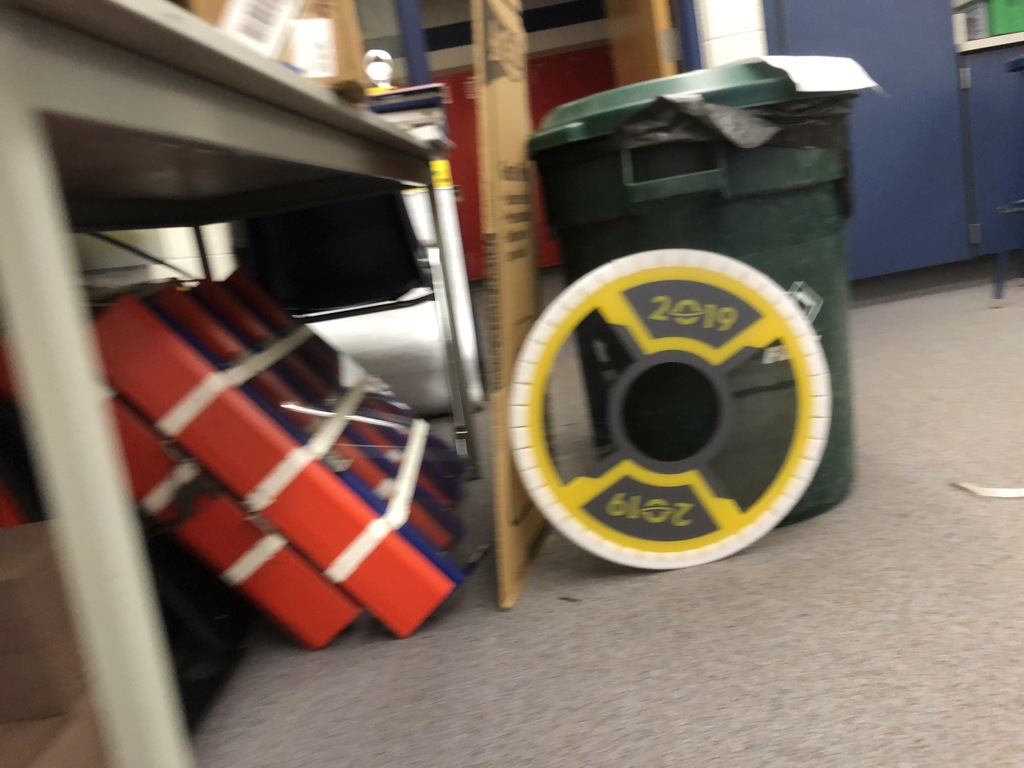hatch_panel: (499, 242, 838, 583)
